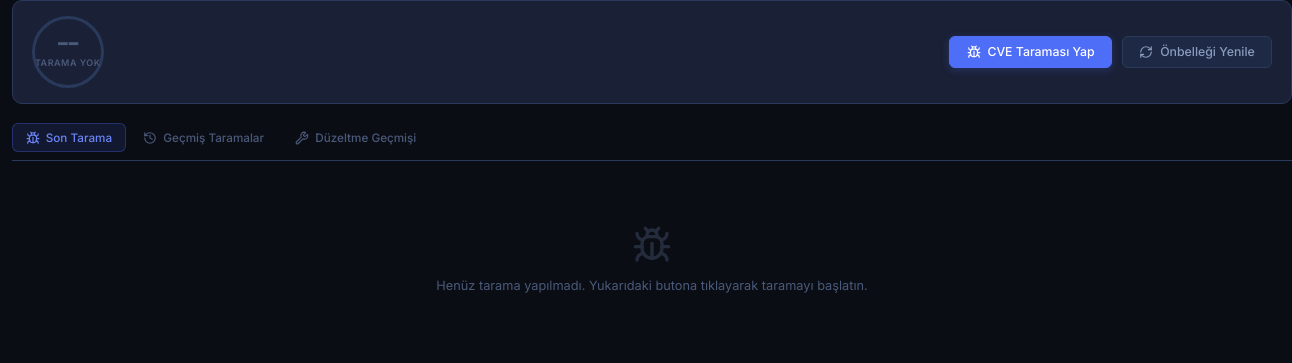
it: VulnerabilityScanner Bileşeni › düzeltme geçmişi sekmesi kayıtları yüklemeli
Click the button "Düzeltme Geçmişi": click(356, 138) [282,123,430,152]
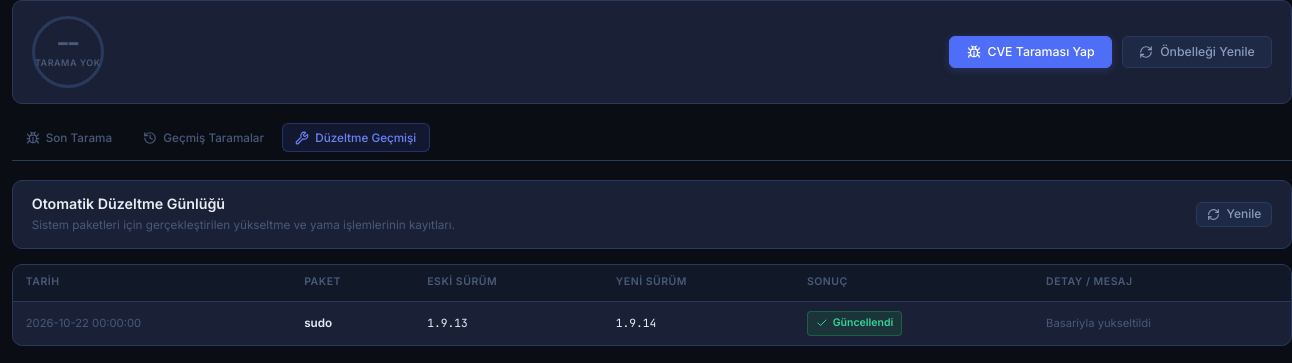
Check: the heading "Otomatik Düzeltme Günlüğü" is shown, box [32,195,225,212]
Check: the text "sudo" is shown, box [291,301,414,345]
Check: the text "1.9.13" is shown, box [414,301,603,345]
